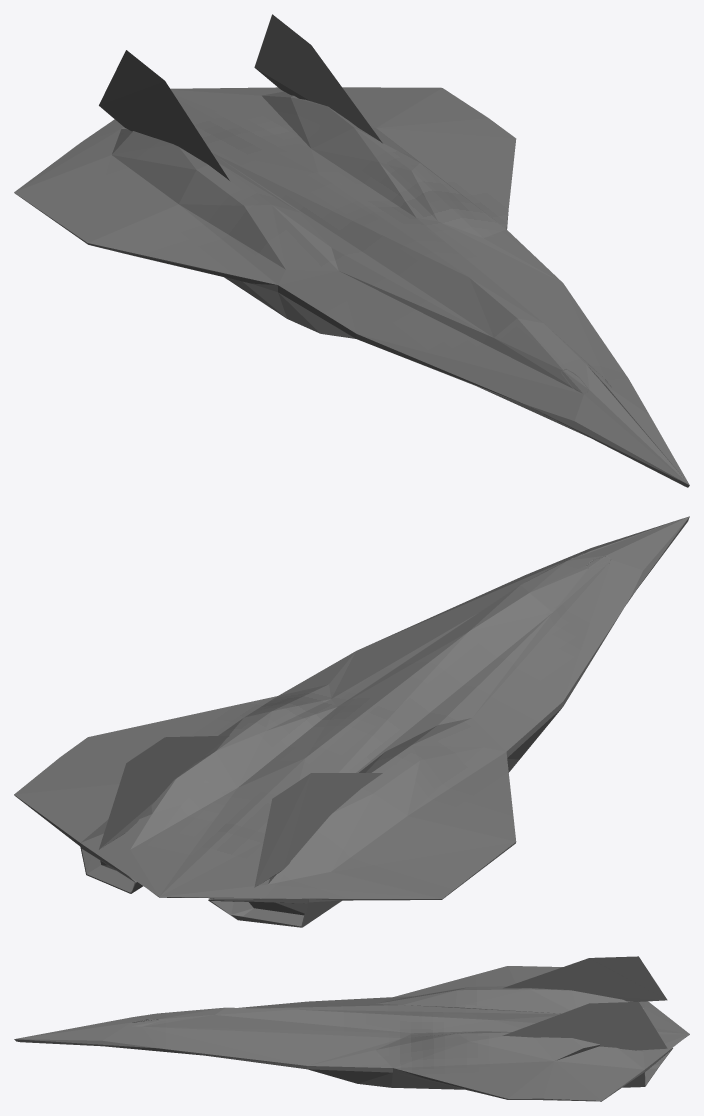
3 views of the same model, one above another, from view 1: azimuth 30°, elevation 25°; view 2: azimuth 150°, elevation 25°; view 3: azimuth 270°, elevation 25° (orthographic). The views are drawn at different scales.
Parts seen in each view (by area): view 1: Darkstar_Material_0; view 2: Darkstar_Material_0; view 3: Darkstar_Material_0.
Boxes of the visible parts, left/top/right/bottom form: Darkstar_Material_0: left=14, top=14, right=689, bottom=487; Darkstar_Material_0: left=14, top=516, right=689, bottom=927; Darkstar_Material_0: left=14, top=956, right=689, bottom=1101.
Bounding box in the file's own units: 3.99 × 1.1 × 8.57.
Materials: 1 (1 with a texture image).
